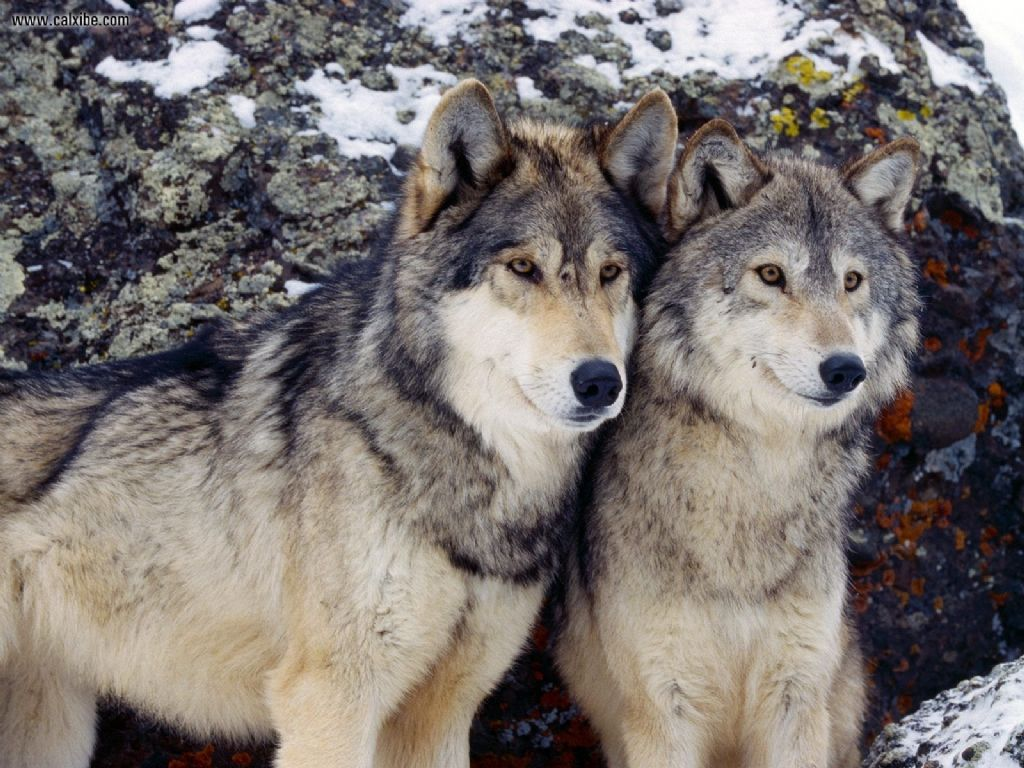wolf: (1, 64, 702, 765), (547, 107, 945, 768)
